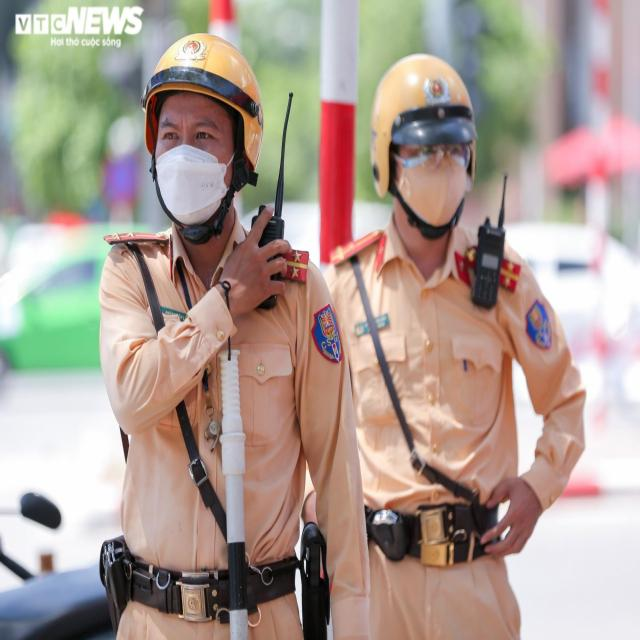Helmet: (138, 31, 266, 245), (361, 42, 484, 245)
